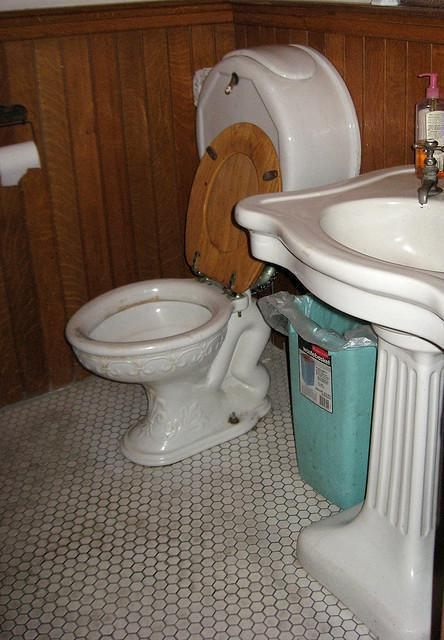Bote de Basura: (274, 291, 406, 511)
Lavamanos: (233, 149, 443, 354)
Sanitario: (56, 62, 332, 471)
